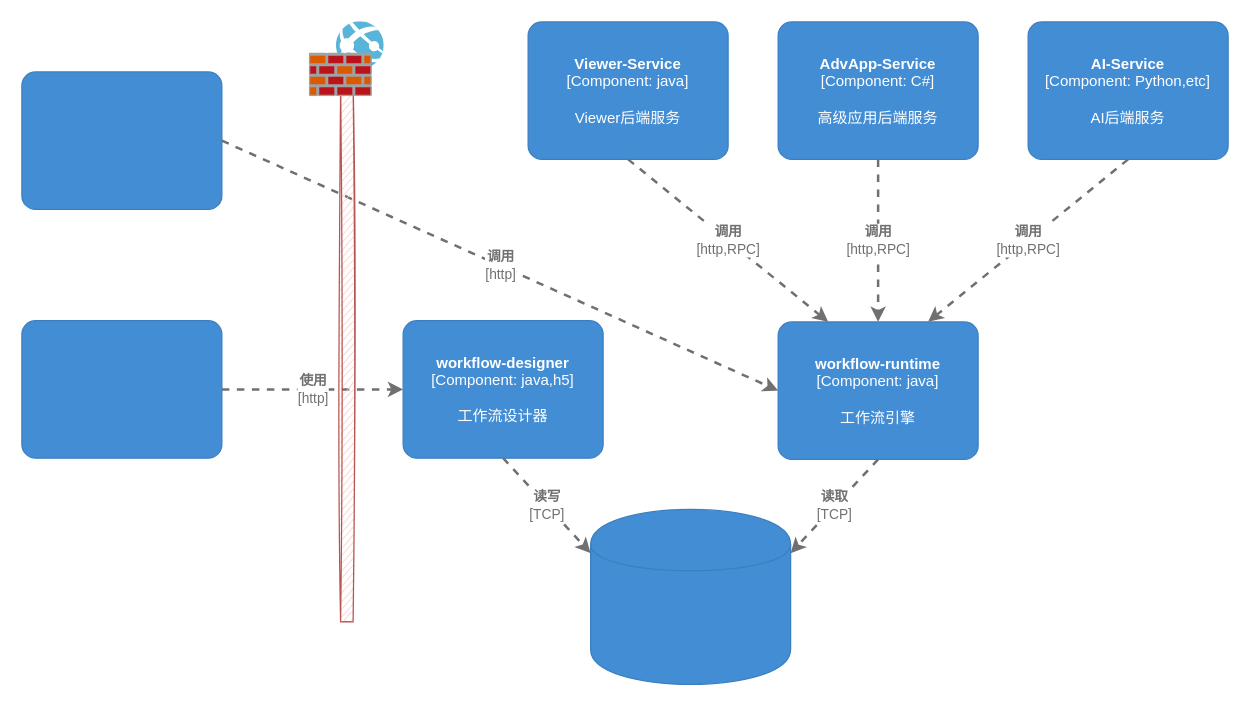
The diagram is 1250 pixels wide and 706 high, and some of its shapes have lost their labels. Here are the shapes that lost their labels. From the top down, the box of each, then its label:
(21, 71, 222, 209): Viewer [Component: h5,native] MTI前端组件
(21, 319, 222, 458): Common-Config [Component: java] 通用配置模块
(589, 508, 791, 684): Database [Container: MySQL] 流程引擎数据库
